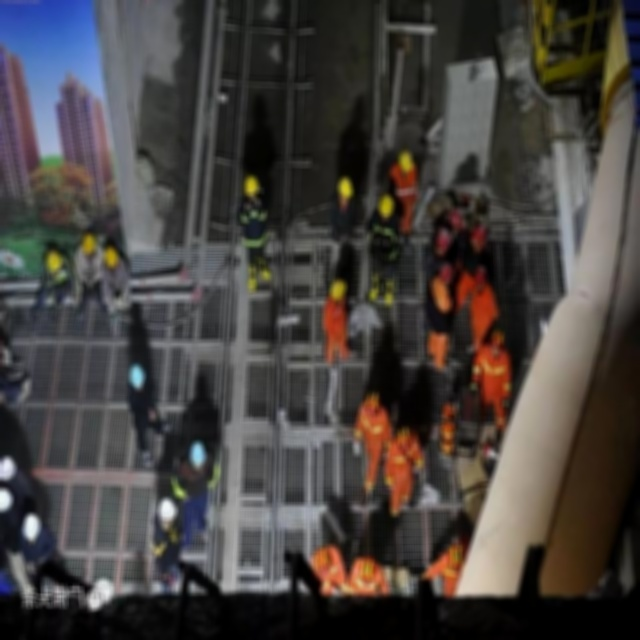Con_Casco: (338, 177, 353, 205), (330, 279, 346, 303), (245, 175, 258, 201), (399, 151, 412, 173)
